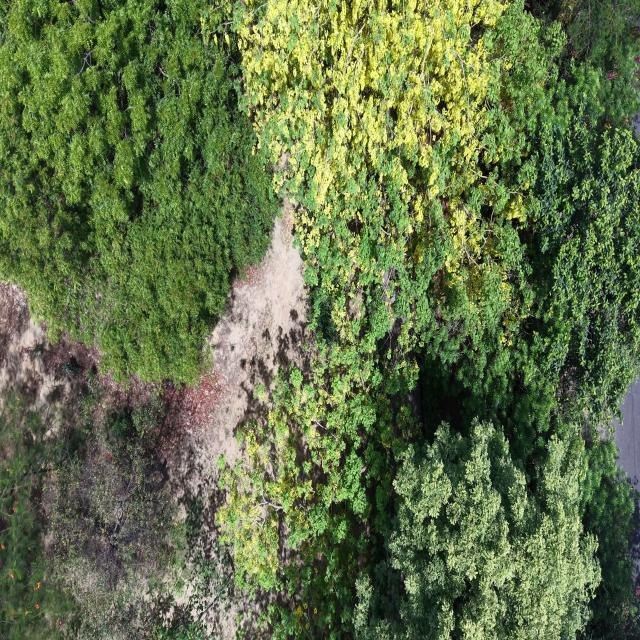DRY_AREA: (97, 203, 311, 556), (163, 203, 310, 553), (170, 204, 310, 554), (163, 204, 309, 462), (183, 206, 309, 498), (164, 203, 308, 458), (194, 209, 308, 478), (0, 284, 157, 463), (199, 206, 308, 461), (0, 283, 159, 430), (0, 283, 98, 432), (0, 284, 57, 423), (0, 284, 35, 388), (613, 379, 639, 491), (613, 379, 639, 490), (613, 381, 639, 490), (633, 113, 639, 138)
PATHWAYS: (614, 380, 639, 491)
VEGETATION_TREE: (0, 0, 639, 639), (220, 0, 639, 637), (222, 2, 532, 634), (239, 2, 637, 404), (238, 2, 531, 368), (0, 0, 277, 383), (0, 371, 232, 639), (354, 421, 600, 639), (44, 374, 233, 639), (0, 375, 181, 638), (521, 79, 639, 422), (44, 376, 183, 639), (0, 393, 72, 639), (528, 0, 639, 126), (581, 438, 639, 639)
